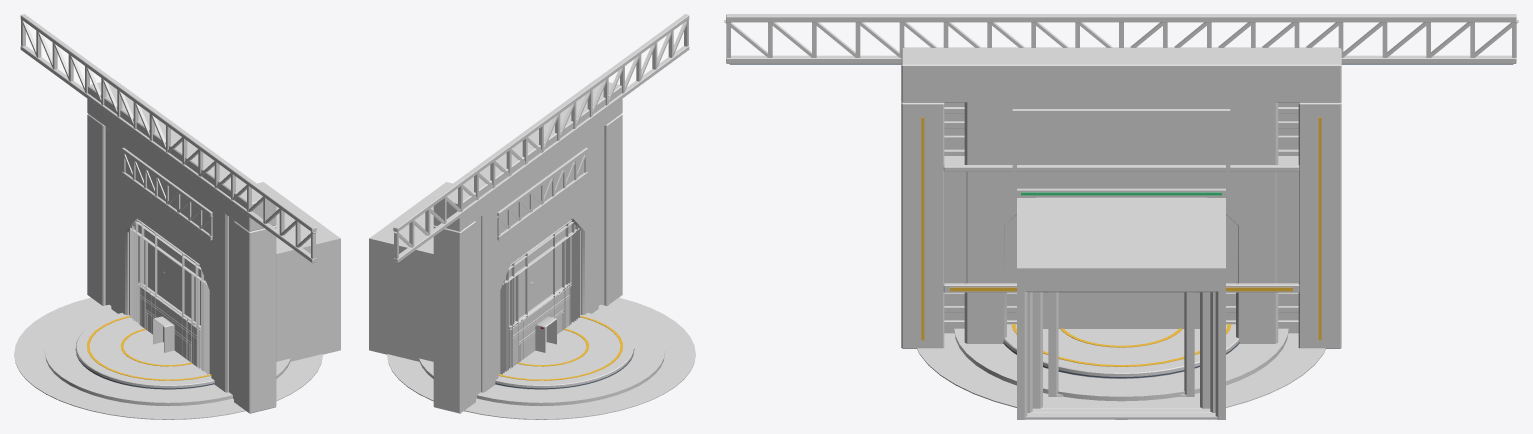
The model's file is Duels.fbx.
3 views of the same model, side by side, from view 1: azimuth 30°, elevation 25°; view 2: azimuth 150°, elevation 25°; view 3: azimuth 270°, elevation 25° (orthographic). The views are drawn at different scales.
Parts seen in each view (by area): view 1: GauntletGate_Frame, DuelsArch_Frame, DuelsBayShell_18_Shell, DuelsTruss_76_Truss, GauntletDais_Apron, GauntletDais_Top, GauntletDais_Low, GauntletGate_Shutter, DuelsTruss_22_Truss, DuelsApseWall_Wall, DuelsBayShell_15_Shell, DuelsBayShell_17_Shell (+10 smaller); view 2: GauntletGate_Frame, DuelsArch_Frame, DuelsBayShell_18_Shell, DuelsTruss_76_Truss, GauntletDais_Apron, GauntletDais_Top, GauntletDais_Low, GauntletGate_Shutter, DuelsTruss_22_Truss, DuelsApseWall_Wall, DuelsBayShell_17_Shell, BaySign_14_Backer (+9 smaller); view 3: GauntletGate_Frame, DuelsArch_Frame, DuelsTruss_76_Truss, DuelsBayShell_17_Shell, DuelsArch_TitleBacker, DuelsBayShell_18_Shell, GauntletGate_TitleBacker, DuelsBayShell_15_Shell, GauntletDais_Apron, GauntletDais_Top, DuelsBayShell_12_Shell, GauntletDais_Low (+10 smaller).
Boxes of the visible parts, bbox=[...] form: GauntletGate_Frame: bbox=[87, 79, 276, 413]; DuelsArch_Frame: bbox=[111, 126, 228, 392]; DuelsBayShell_18_Shell: bbox=[130, 182, 340, 374]; DuelsTruss_76_Truss: bbox=[20, 14, 316, 262]; GauntletDais_Apron: bbox=[14, 297, 322, 419]; GauntletDais_Top: bbox=[76, 313, 214, 389]; GauntletDais_Low: bbox=[45, 305, 290, 406]; GauntletGate_Shutter: bbox=[105, 127, 234, 398]; DuelsTruss_22_Truss: bbox=[122, 147, 213, 240]; DuelsApseWall_Wall: bbox=[155, 233, 184, 355]; DuelsBayShell_15_Shell: bbox=[135, 206, 321, 369]; DuelsBayShell_17_Shell: bbox=[132, 200, 295, 372]; GauntletGate_Frame: bbox=[433, 79, 622, 413]; DuelsArch_Frame: bbox=[481, 131, 598, 392]; DuelsBayShell_18_Shell: bbox=[369, 182, 579, 374]; DuelsTruss_76_Truss: bbox=[393, 14, 689, 262]; GauntletDais_Apron: bbox=[387, 297, 695, 419]; GauntletDais_Top: bbox=[495, 313, 633, 389]; GauntletDais_Low: bbox=[419, 305, 664, 406]; GauntletGate_Shutter: bbox=[475, 127, 604, 398]; DuelsTruss_22_Truss: bbox=[496, 147, 587, 240]; DuelsApseWall_Wall: bbox=[525, 233, 554, 355]; DuelsBayShell_17_Shell: bbox=[378, 198, 577, 372]; BaySign_14_Backer: bbox=[514, 288, 568, 356]; GauntletGate_Frame: bbox=[901, 47, 1341, 348]; DuelsArch_Frame: bbox=[964, 96, 1278, 343]; DuelsTruss_76_Truss: bbox=[724, 14, 1518, 63]; DuelsBayShell_17_Shell: bbox=[1022, 197, 1220, 412]; DuelsArch_TitleBacker: bbox=[1017, 115, 1225, 188]; DuelsBayShell_18_Shell: bbox=[1017, 198, 1225, 419]; GauntletGate_TitleBacker: bbox=[943, 156, 1299, 282]; DuelsBayShell_15_Shell: bbox=[1032, 292, 1210, 408]; GauntletDais_Apron: bbox=[917, 333, 1325, 419]; GauntletDais_Top: bbox=[1003, 324, 1239, 378]; DuelsBayShell_12_Shell: bbox=[1048, 197, 1194, 396]; GauntletDais_Low: bbox=[955, 328, 1287, 401].
Size of the model in its own units: 40 by 33.4 by 76.05.
